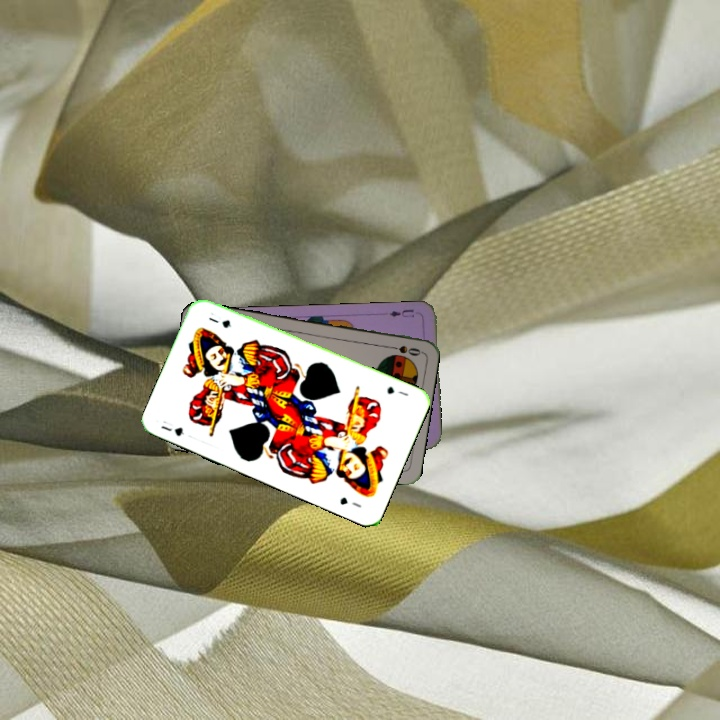EU: (385, 305, 417, 320)
GU: (157, 416, 187, 439), (383, 382, 411, 399)
SO: (383, 341, 423, 358)
